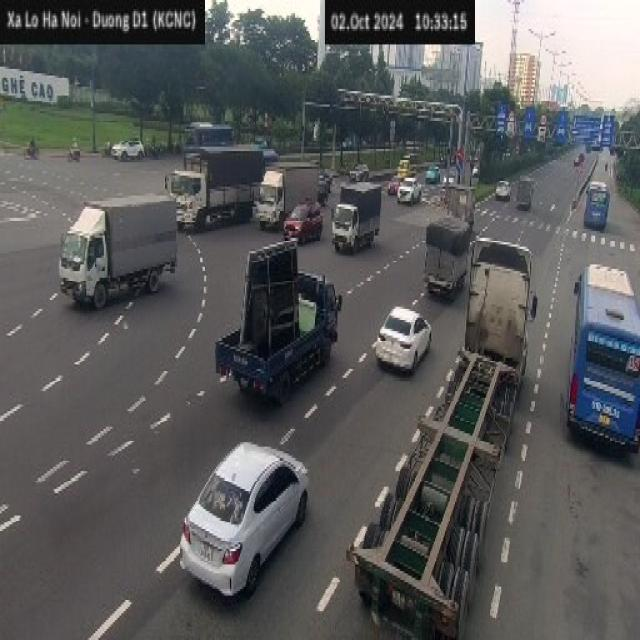bus: (564, 249, 640, 458), (584, 178, 614, 238), (182, 118, 236, 150)
car: (182, 443, 306, 600), (371, 303, 434, 377), (284, 203, 324, 244), (112, 134, 146, 164), (398, 180, 422, 208), (494, 175, 512, 209), (348, 159, 368, 185), (425, 166, 441, 188), (386, 172, 401, 195)
container-truck: (346, 239, 532, 634)
truck: (213, 253, 341, 400), (52, 202, 181, 311), (162, 148, 265, 224), (255, 158, 321, 224), (422, 211, 471, 299), (331, 184, 382, 246), (448, 184, 478, 246), (515, 175, 534, 214), (395, 153, 419, 178)
